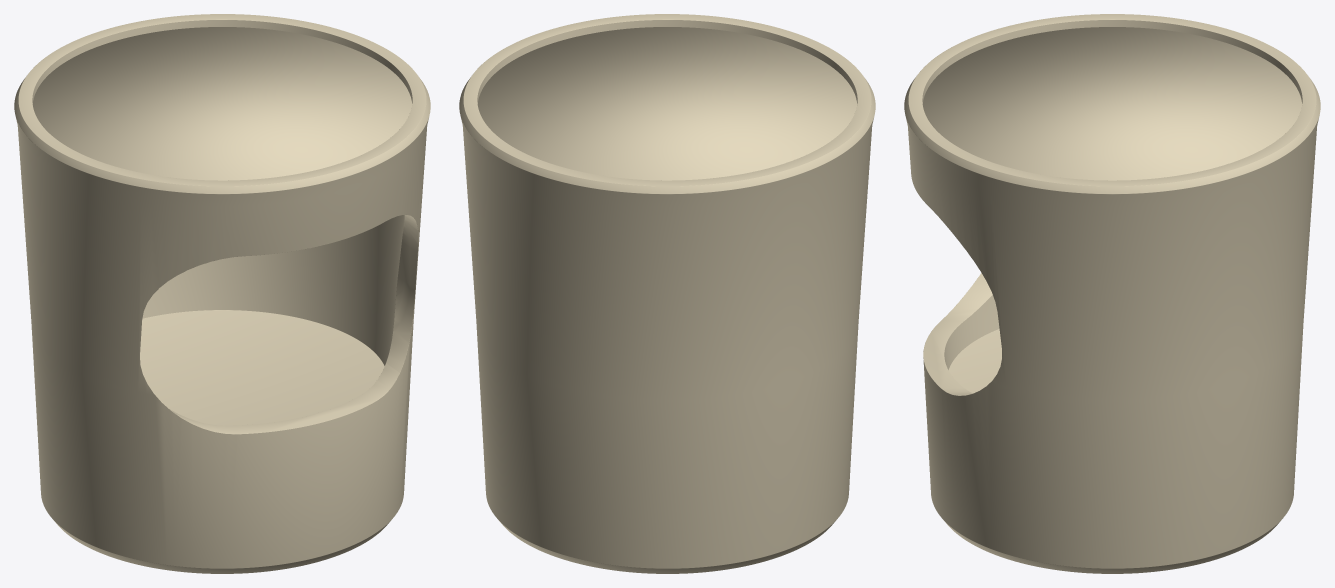
Rendered from giano.glb.
The picture shows the model from 3 angles, left to right: view 1: azimuth 30°, elevation 25°; view 2: azimuth 150°, elevation 25°; view 3: azimuth 270°, elevation 25°; orthographic projection.
Visible parts, largest first — view 1: giano; view 2: giano; view 3: giano.
Part boxes in pixels (x1,y1,x2,y2): giano: [14, 14, 430, 573]; giano: [459, 14, 875, 573]; giano: [904, 14, 1320, 573].
Size of the model in its own units: 0.39 by 0.4131 by 0.39.
